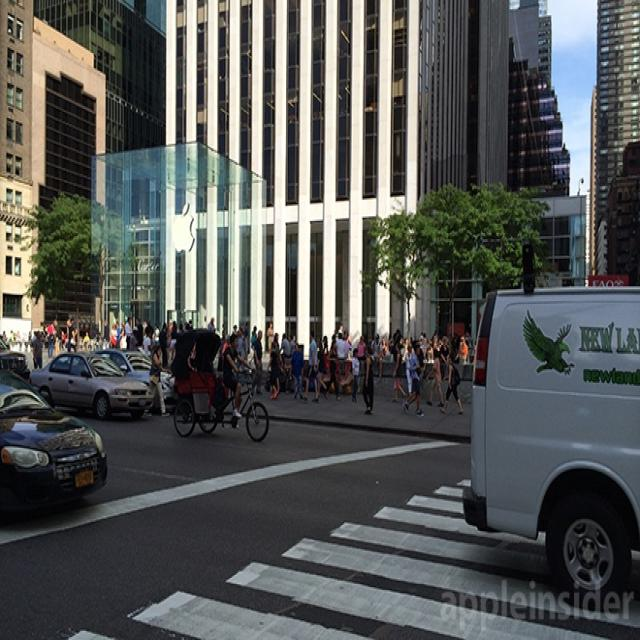body: (0, 312, 251, 375), (278, 319, 475, 372), (219, 330, 256, 430), (142, 342, 170, 418), (438, 351, 466, 416), (423, 346, 446, 408), (303, 327, 320, 401), (400, 340, 420, 401), (323, 338, 342, 402), (400, 342, 421, 398), (361, 344, 377, 414), (390, 340, 407, 402), (313, 339, 329, 401), (265, 340, 281, 402), (290, 342, 305, 402), (251, 328, 264, 396), (349, 346, 361, 404), (278, 333, 292, 369), (249, 324, 258, 363), (379, 334, 391, 358), (266, 319, 274, 353), (286, 332, 297, 349), (272, 332, 280, 349)
